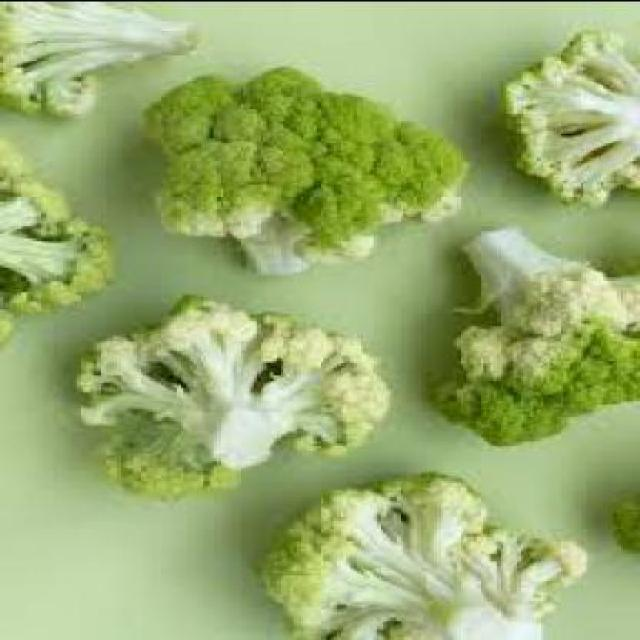BIODEGRADABLE: (147, 62, 476, 270), (77, 291, 397, 494), (264, 468, 590, 638), (432, 215, 638, 440), (3, 132, 123, 345), (507, 25, 639, 203), (3, 0, 200, 114), (612, 486, 638, 552)
